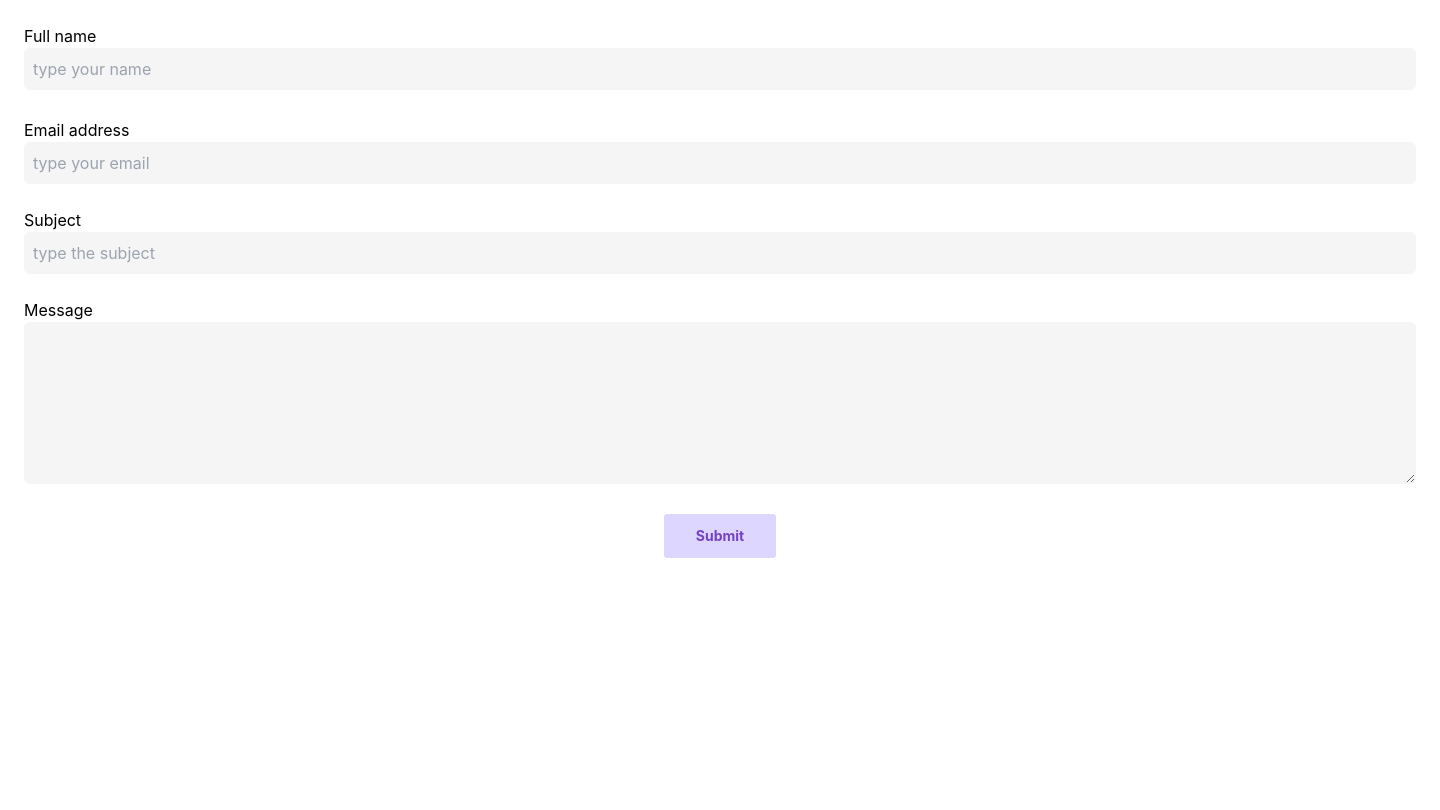
Test: Form Component › shows validation messages on submitting empty form
// Trigger form submission
Click the button "Submit": [720, 536] box [664,514,776,558]
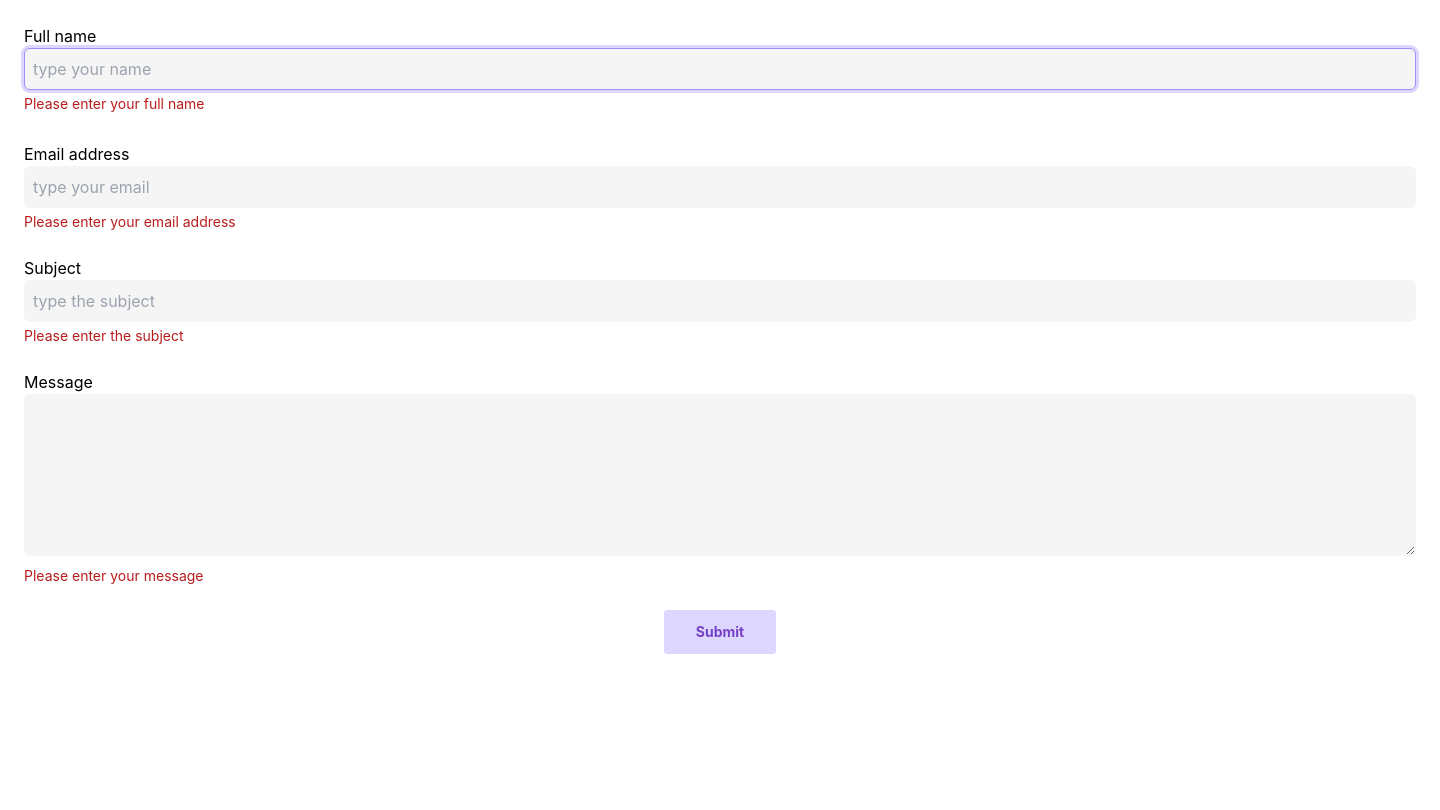
Now the text "Please enter your full name" is shown, box [24,95,204,112]
Now the text "Please enter your email address" is shown, box [24,213,236,230]
Now the text "Please enter the subject" is shown, box [24,327,184,344]
